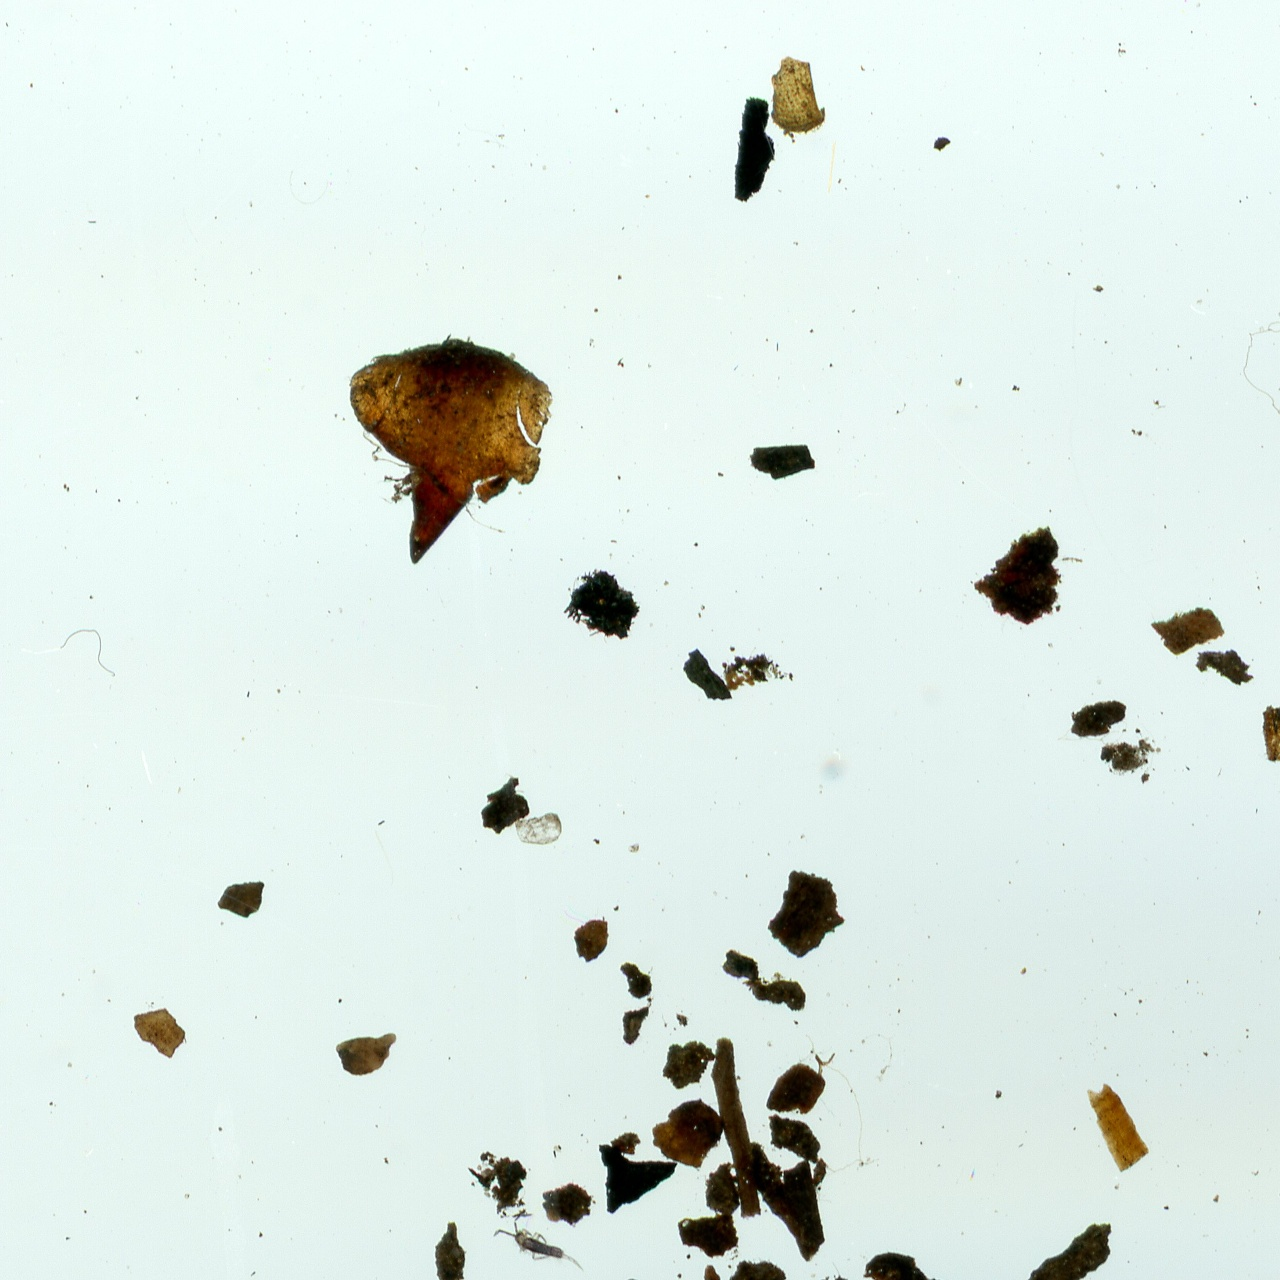arthropod: (486, 1201, 610, 1280), (609, 1267, 679, 1280)
